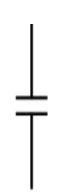Capacitor: (12, 83, 51, 127)
